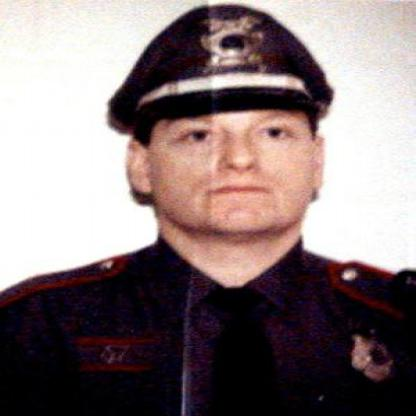face: (144, 35, 324, 242)
